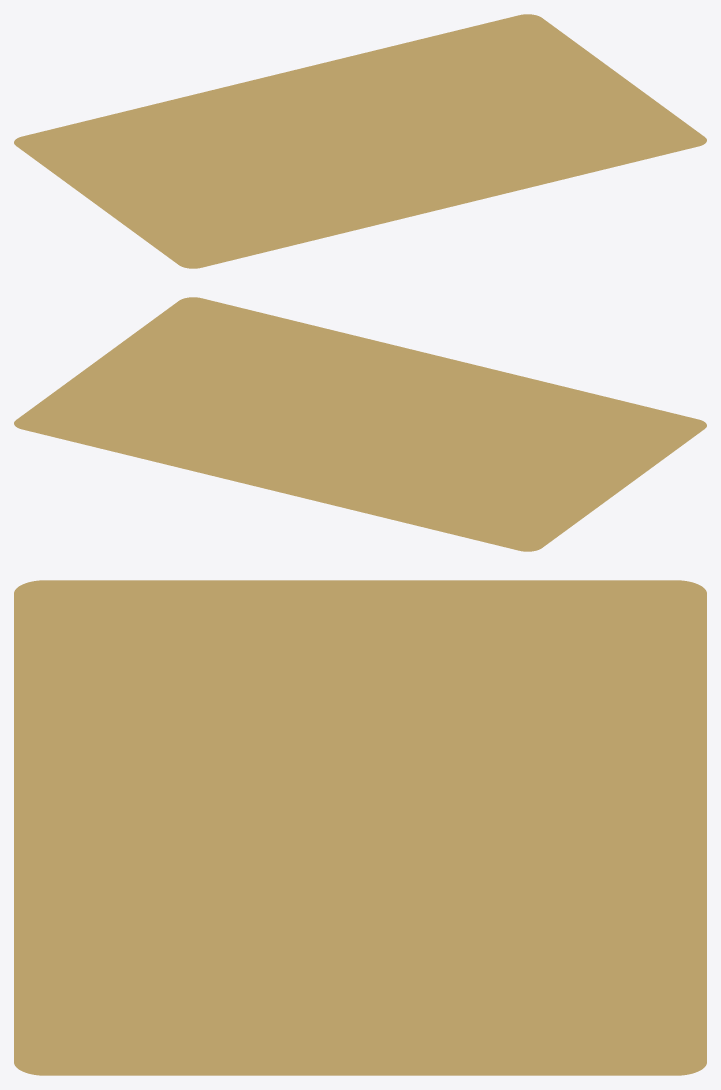
The model's file is step_01.glb.
The picture shows the model from 3 angles, top to bottom: view 1: azimuth 30°, elevation 25°; view 2: azimuth 150°, elevation 25°; view 3: azimuth 270°, elevation 25°; orthographic projection. The views are drawn at different scales.
Parts seen in each view (by area): view 1: overlay; view 2: overlay; view 3: overlay.
Boxes of the visible parts, x1=… form: overlay: x1=14, y1=14, x2=706, y2=268; overlay: x1=14, y1=297, x2=706, y2=551; overlay: x1=14, y1=580, x2=706, y2=1075.
Bounding box in the file's own units: 220 × 0 × 130.
